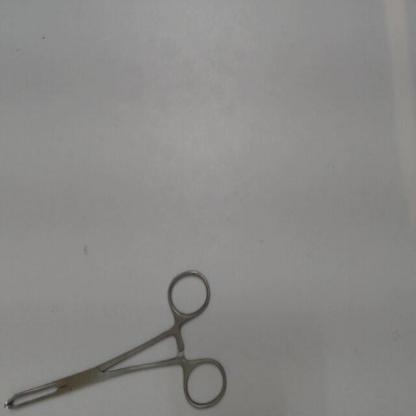Allis Tissue Forceps: (3, 261, 235, 414)
